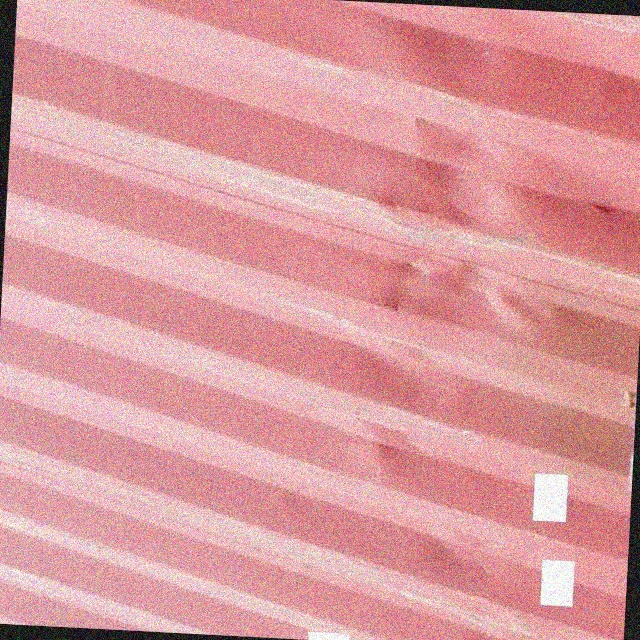Dent: (359, 101, 571, 448)
